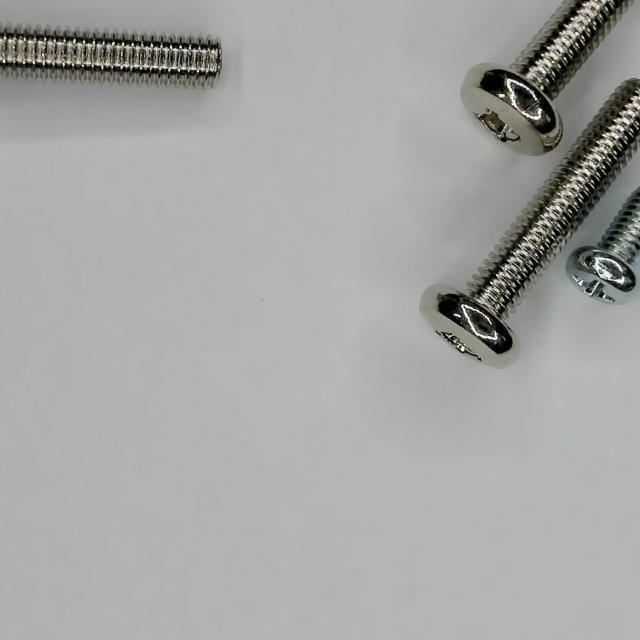Screw: (424, 78, 640, 361), (462, 0, 630, 154), (0, 26, 222, 86), (568, 188, 640, 303)
